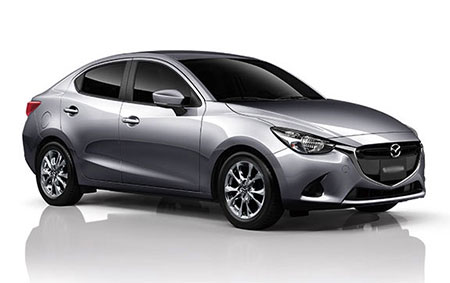sedan: (21, 48, 426, 226)
